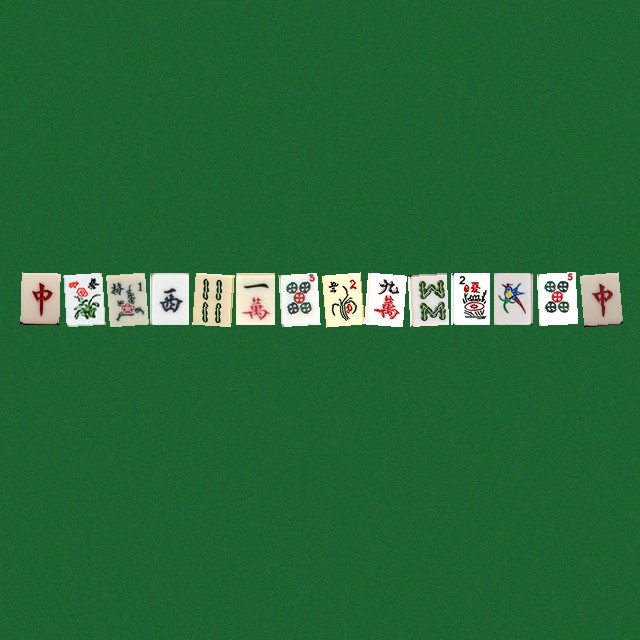tile: (20, 272, 59, 324), (63, 272, 102, 324), (106, 272, 145, 324), (149, 272, 188, 324), (192, 272, 231, 324), (235, 272, 274, 324), (278, 272, 317, 324), (321, 272, 360, 324), (364, 272, 403, 324), (407, 272, 446, 324), (450, 272, 489, 324), (493, 272, 532, 324), (536, 272, 575, 324), (579, 272, 618, 324)
